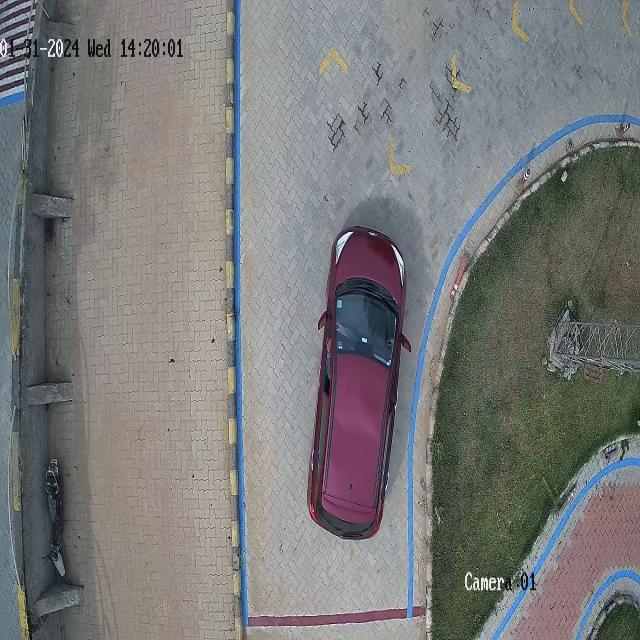car: (308, 227, 410, 540)
